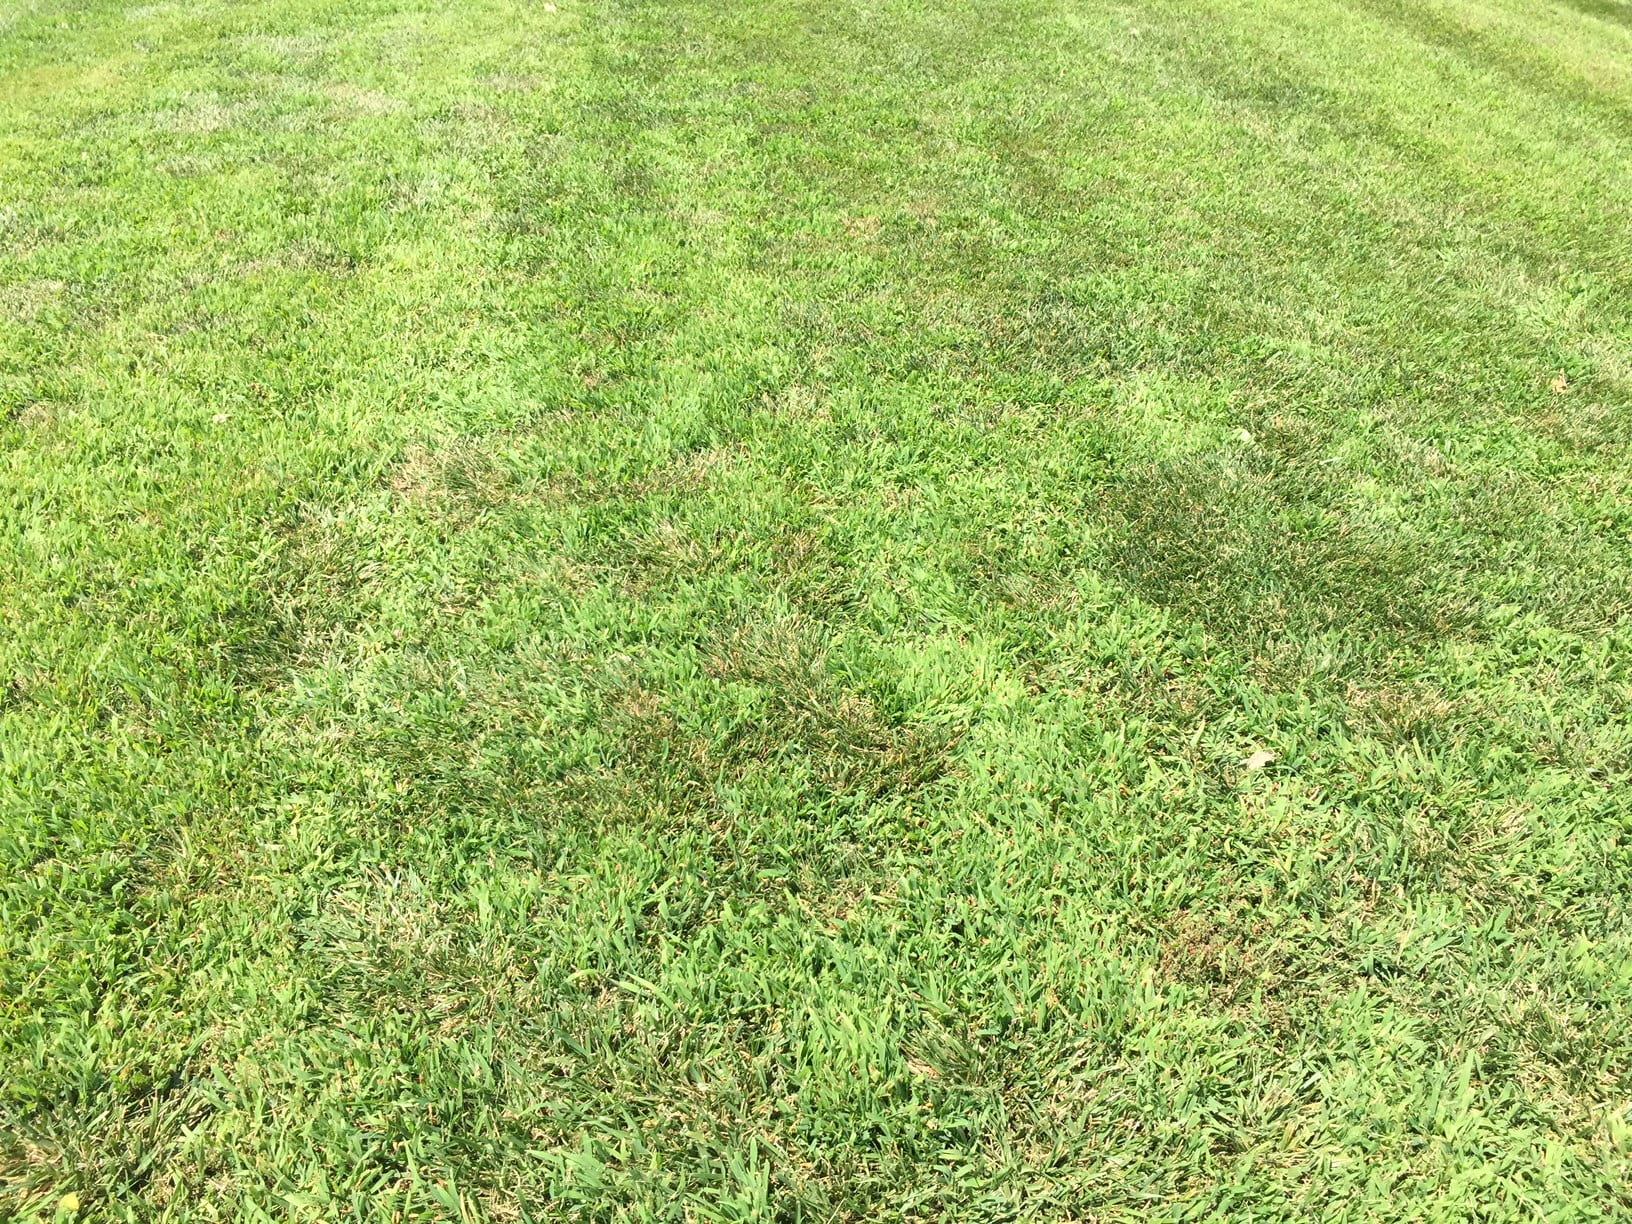crabgrass: (879, 636, 1200, 966), (1280, 978, 1632, 1214), (693, 912, 930, 1169), (672, 379, 986, 550), (1070, 318, 1258, 499)
